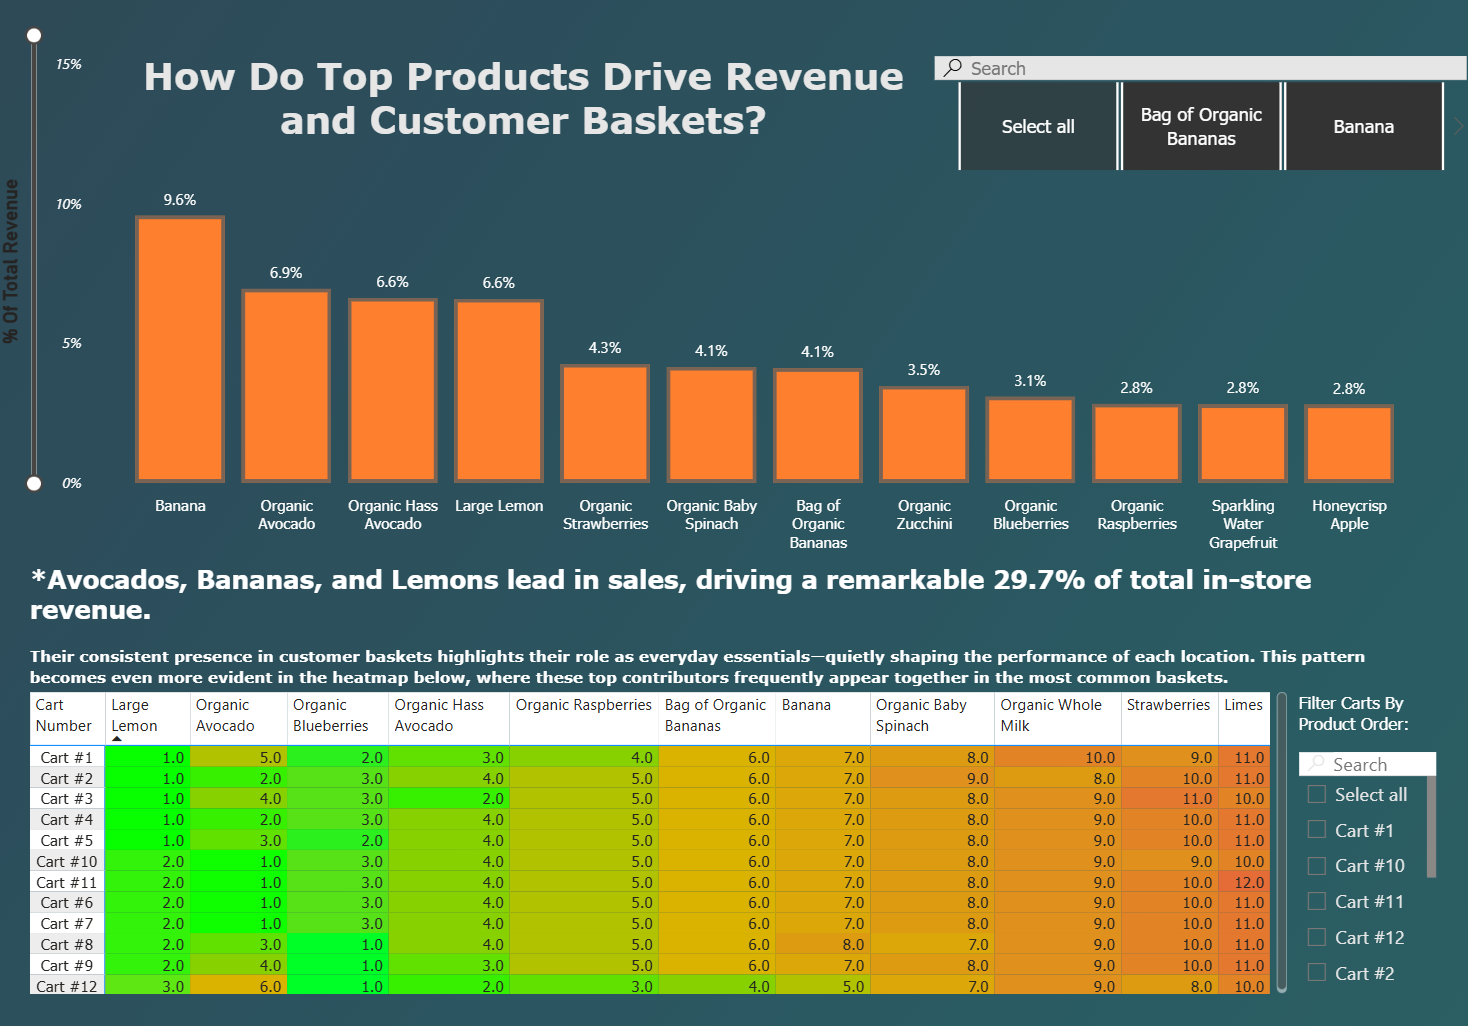

The dashboard page shown, as its layout file describes it:
{"tool":"powerbi","page":{"name":"Page 1","canvas":[1280,900],"ordinal":0},"visuals":[{"type":"pivotTable","fields":{"Values":["Min(Heatmap_Products_ATC_Order_Rank.Column3)","Min(Heatmap_Products_ATC_Order_Rank.Column2)","Min(Heatmap_Products_ATC_Order_Rank.Column4)","Min(Heatmap_Products_ATC_Order_Rank.Column5)","Min(Heatmap_Products_ATC_Order_Rank.Column6)","Min(Heatmap_Products_ATC_Order_Rank.Column7)","Min(Heatmap_Products_ATC_Order_Rank.Column8)","Min(Heatmap_Products_ATC_Order_Rank.Column9)","Min(Heatmap_Products_ATC_Order_Rank.Column10)","Min(Heatmap_Products_ATC_Order_Rank.Column11)","Min(Heatmap_Products_ATC_Order_Rank.Column12)"],"Rows":["Heatmap_Products_ATC_Order_Rank.Value"]},"box":[25.7,600,1099.3,271.1],"z":0},{"type":"lineClusteredColumnComboChart","fields":{"Category":["Sum_%_Products_Word_Performance.reordered"],"Y2":["CountNonNull(Sum_%_Products_Word_Performance.Column4)"],"Y":["Sum(Sum_%_Products_Word_Performance.%_Total_Sales)"]},"box":[25.4,23.1,1230,467.3],"z":1000},{"type":"slicer","fields":{"Values":["Sum_%_Products_Word_Performance.reordered"]},"box":[808.8,49.6,470.8,110.8],"z":2000},{"type":"slicer","fields":{"Values":["Heatmap_Products_ATC_Order_Rank.Cart Number"]},"box":[1125,651.9,129.2,219.2],"z":3000},{"type":"textbox","box":[69.2,35.8,739.6,137.3],"z":4000},{"type":"textbox","box":[1125,600,146.5,51.9],"z":5000},{"type":"textbox","box":[25.4,490.4,1230,121.2],"z":6000}]}

Visuals, with their boxes in screenshot pixels (x1, y1, x2, y2), scaled from the page's 1280x900 canvas onto the 1468x1026 screenshot:
pivotTable - Min(Heatmap_Products_ATC_Order_Rank.Column3) x Min(Heatmap_Products_ATC_Order_Rank.Column2): 29 684 1290 993
lineClusteredColumnComboChart - Sum_%_Products_Word_Performance.reordered x CountNonNull(Sum_%_Products_Word_Performance.Column4): 29 26 1440 559
slicer - Sum_%_Products_Word_Performance.reordered: 928 57 1467 183
slicer - Heatmap_Products_ATC_Order_Rank.Cart Number: 1290 743 1438 993
textbox: 79 41 928 197
textbox: 1290 684 1458 743
textbox: 29 559 1440 697
